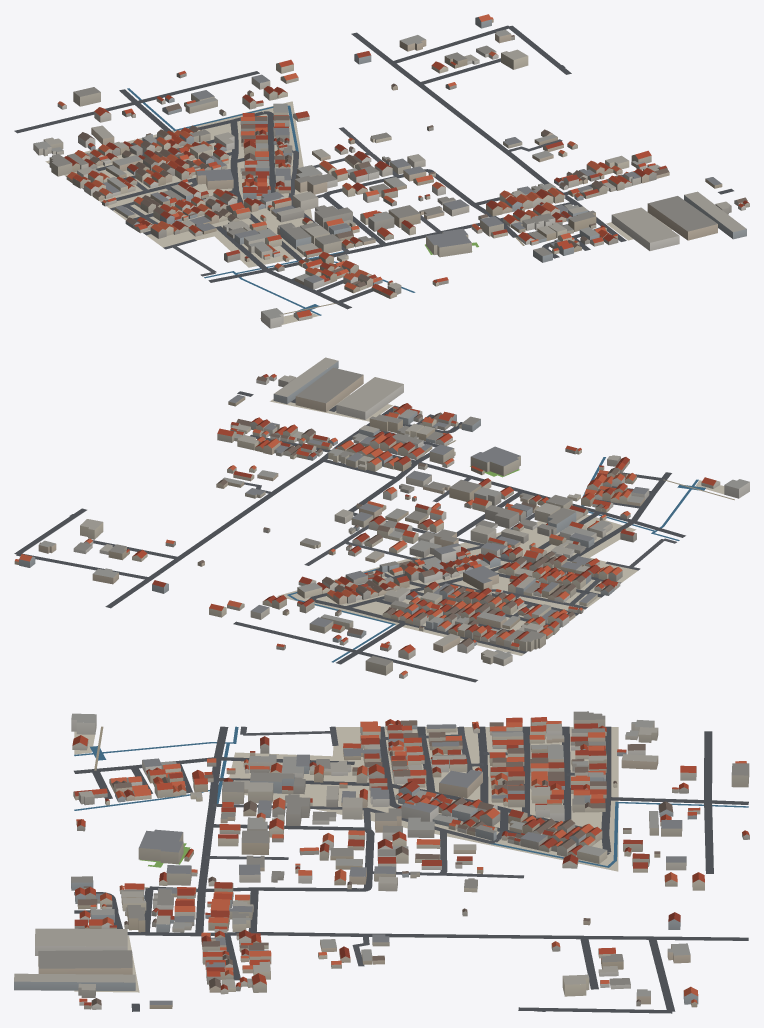
3 views of the same model, one above another, from view 1: azimuth 30°, elevation 25°; view 2: azimuth 150°, elevation 25°; view 3: azimuth 270°, elevation 25° (orthographic). The views are drawn at different scales.
Parts seen in each view (by area): view 1: buildings_roofs, buildings_walls, roads, landuse, water; view 2: buildings_roofs, buildings_walls, roads, landuse, water; view 3: buildings_roofs, buildings_walls, roads, landuse, water.
Part boxes in pixels (x1,y1,x2,y2): buildings_roofs: (33, 14, 749, 318); buildings_walls: (33, 17, 749, 328); roads: (14, 25, 733, 318); landuse: (45, 101, 672, 324); water: (127, 88, 415, 315); buildings_roofs: (15, 357, 749, 675); buildings_walls: (14, 361, 749, 678); roads: (14, 391, 734, 682); landuse: (270, 394, 724, 655); water: (287, 457, 705, 662); buildings_roofs: (14, 711, 749, 1005); buildings_walls: (14, 715, 749, 1009); roads: (74, 726, 748, 1013); landuse: (74, 727, 618, 992); water: (74, 726, 748, 867).
Bounding box in the file's own units: 509 × 9.79 × 546.
